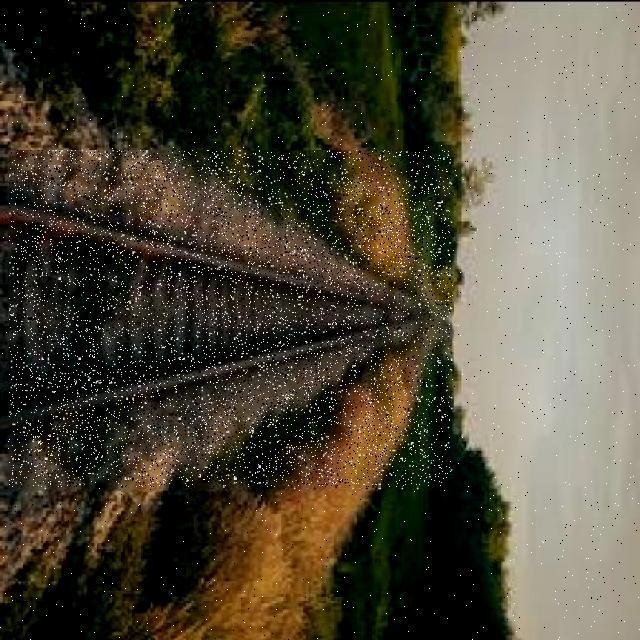rail: (10, 151, 451, 487)
